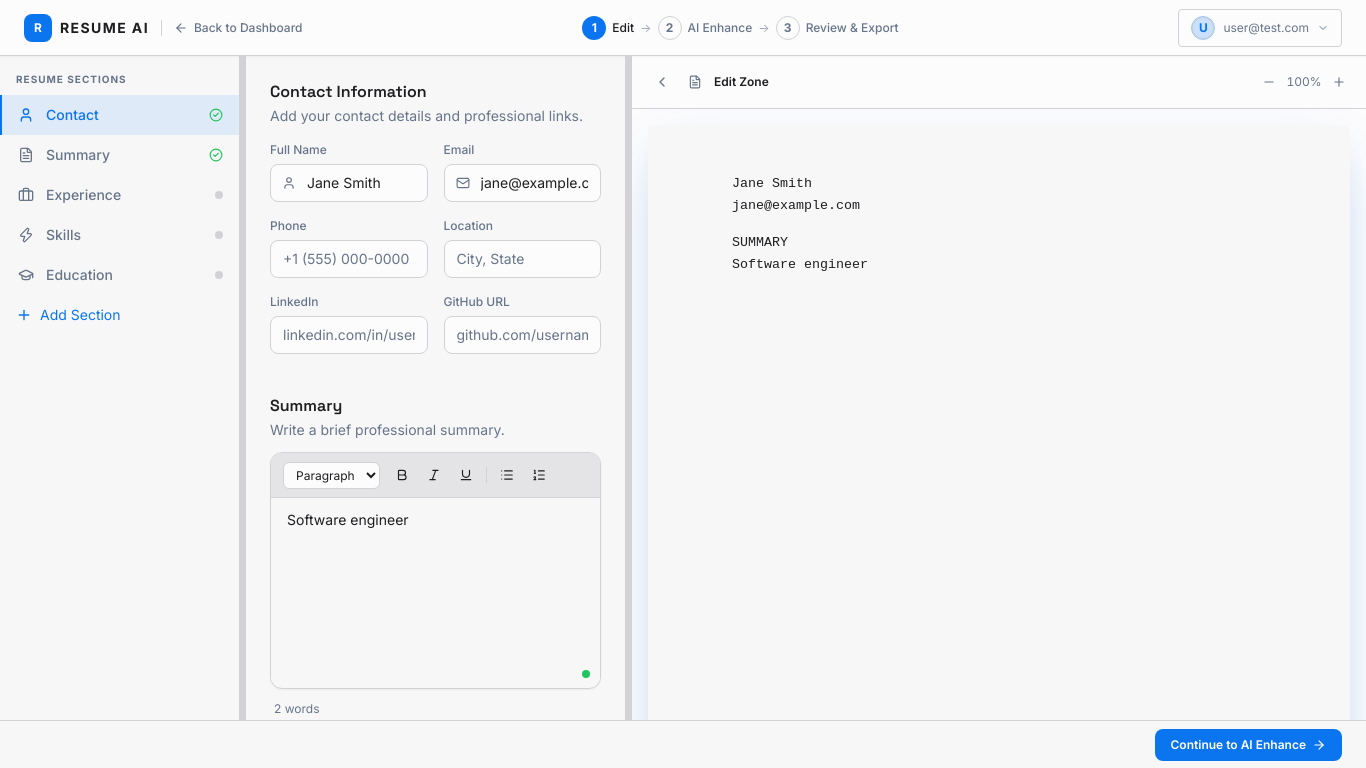
Test: ResumeEditor — save dialog › closes the save dialog after a successful save
The width and height of the screenshot is (1366, 768).
Click the button "Continue to AI Enhance": click(1248, 744) [1154,728,1342,760]
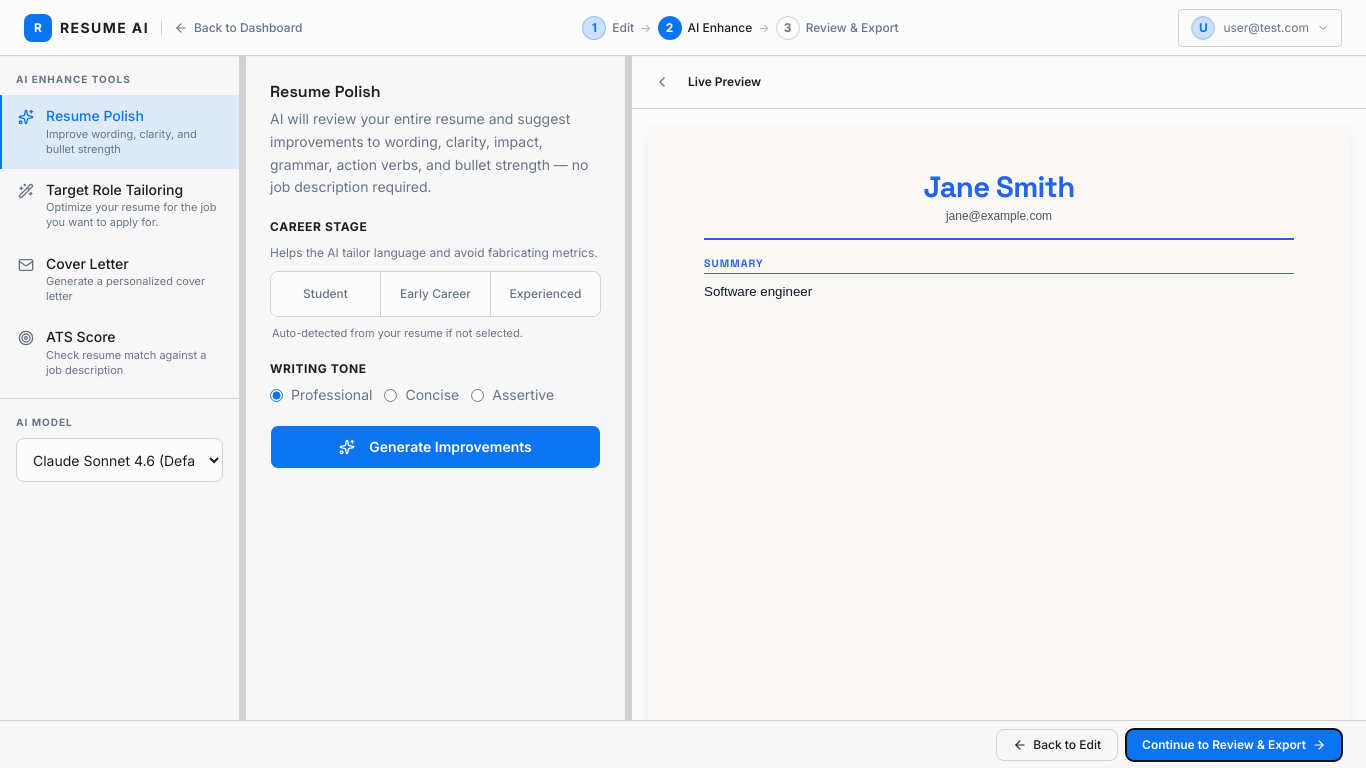
Click the button "Continue to Review & Export": click(1234, 744) [1126,728,1342,760]
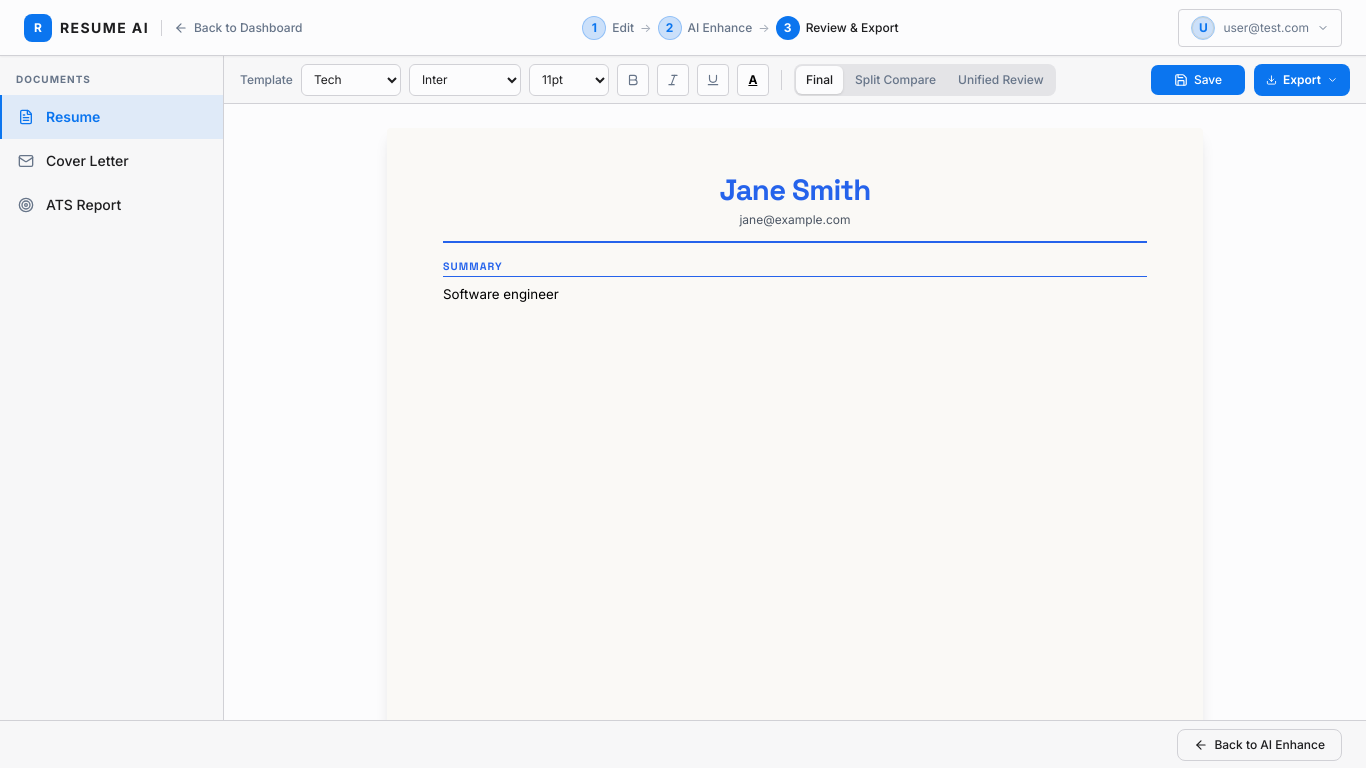
Click the button "Save": click(1198, 80) [1150,64,1246,96]
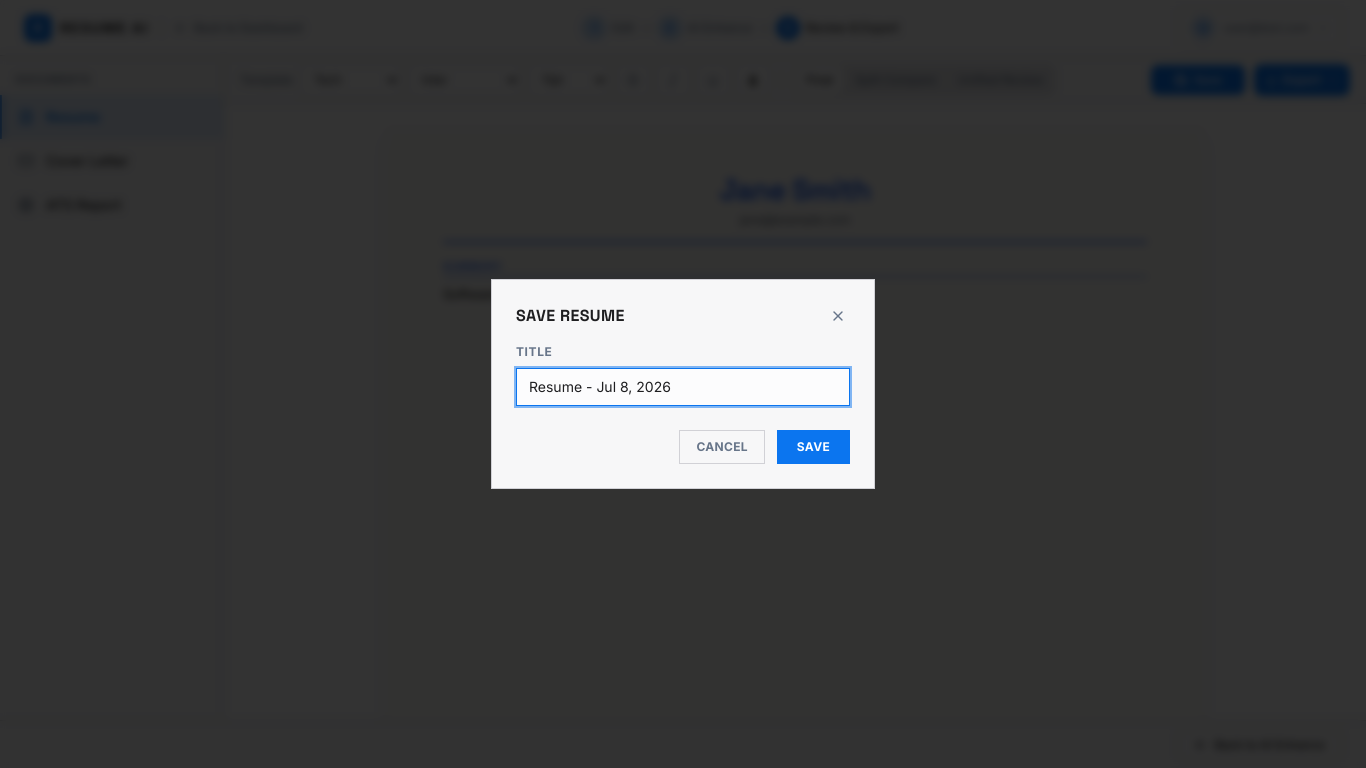
Click the button "Save": click(813, 447) [777,430,850,464]
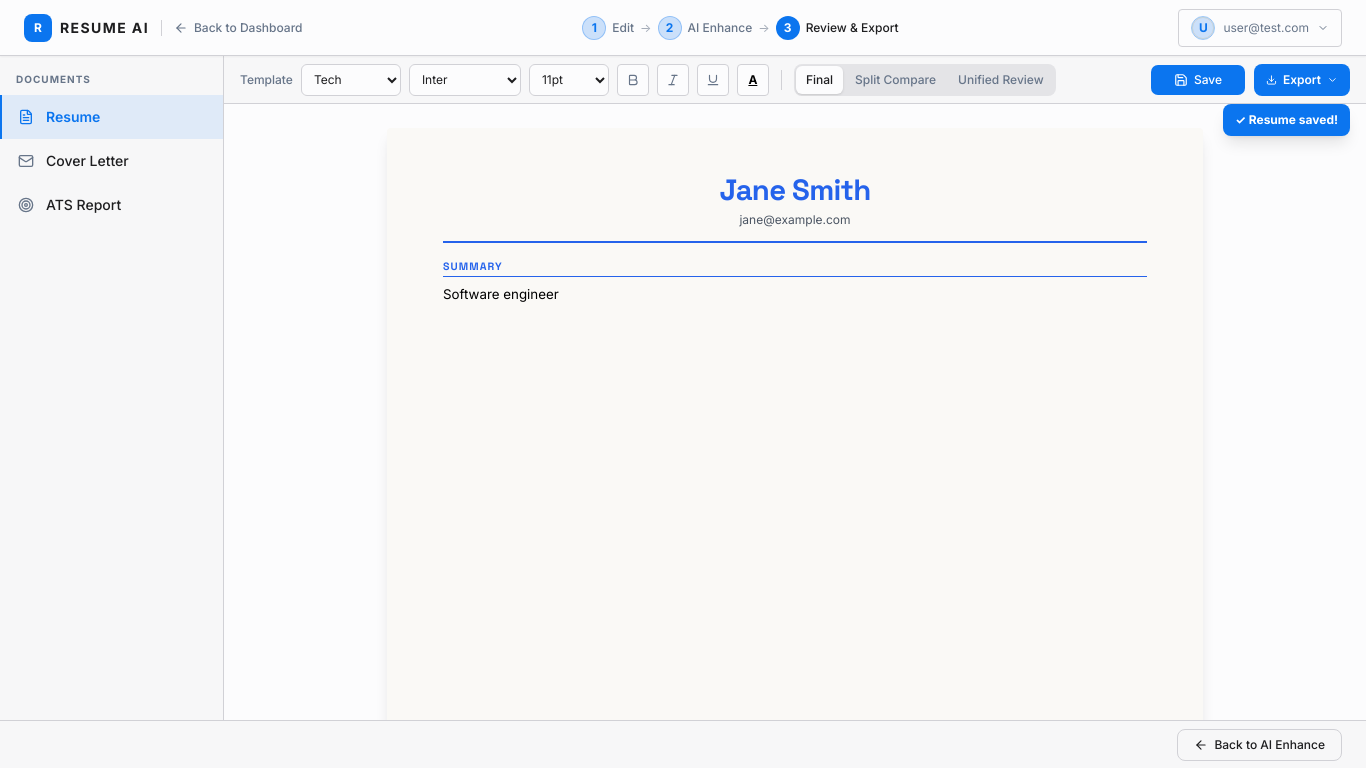
Expected: the heading "Save Resume" is gone
